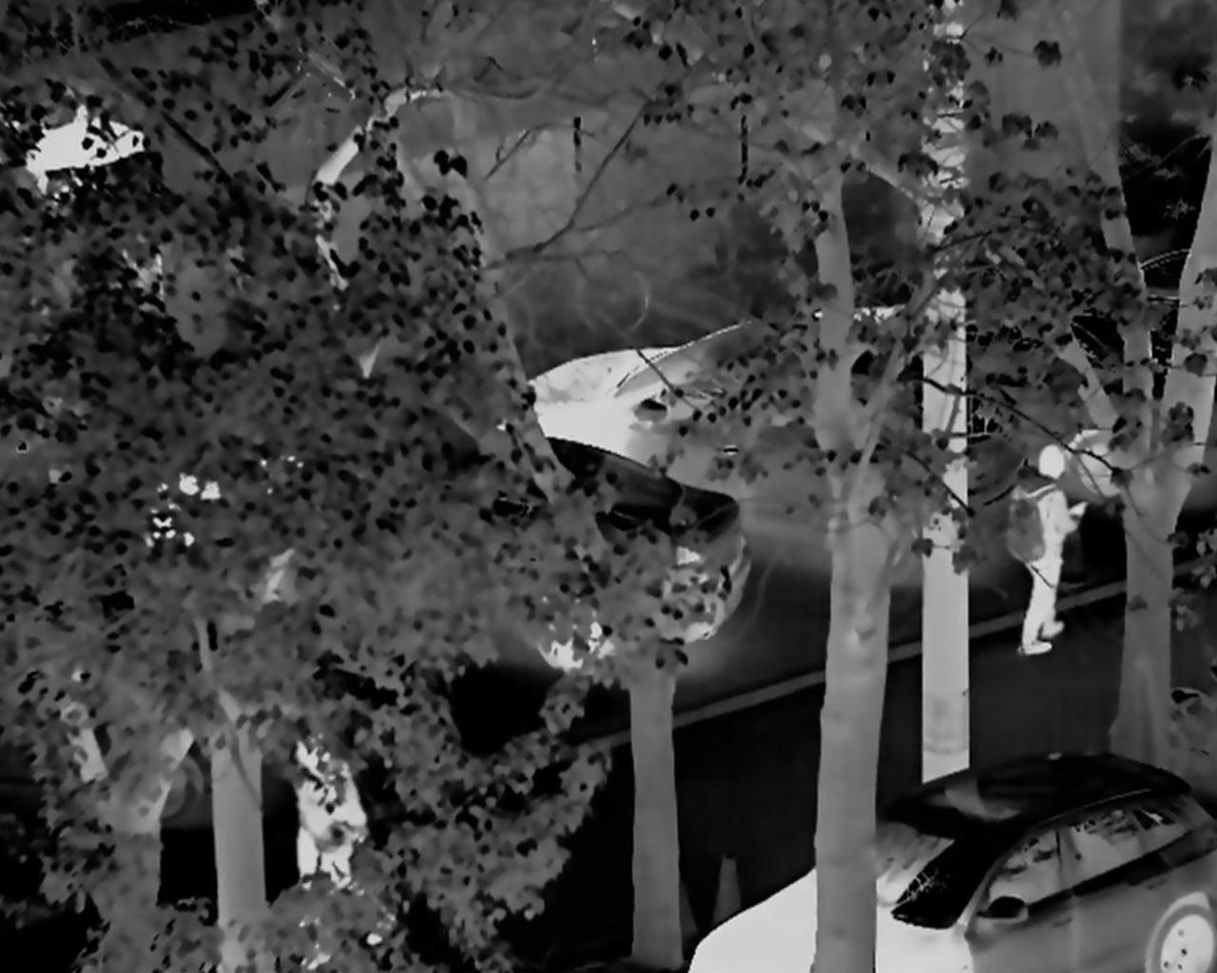person: (286, 731, 384, 956), (1011, 436, 1084, 647)
